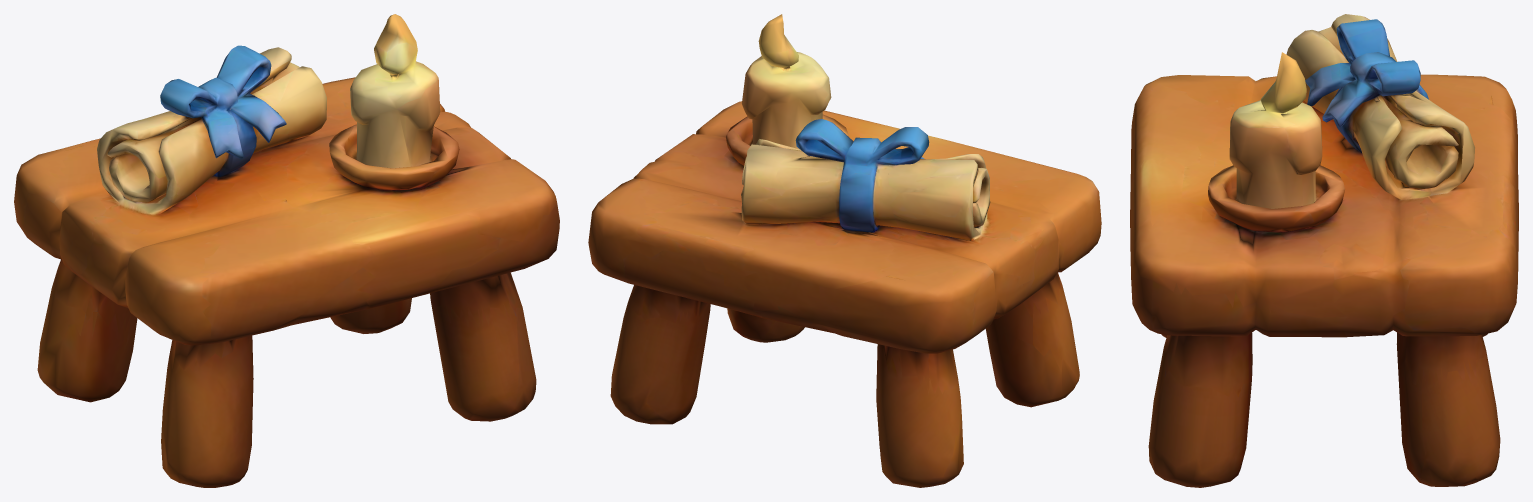
The model's file is map-table.glb.
The picture shows the model from 3 angles, left to right: view 1: azimuth 30°, elevation 25°; view 2: azimuth 150°, elevation 25°; view 3: azimuth 270°, elevation 25°; orthographic projection. The views are drawn at different scales.
Parts seen in each view (by area): view 1: tripo_node_41e9b300-bad6-419e-ae9c-4e3716072612; view 2: tripo_node_41e9b300-bad6-419e-ae9c-4e3716072612; view 3: tripo_node_41e9b300-bad6-419e-ae9c-4e3716072612.
Boxes of the visible parts, x1=… form: tripo_node_41e9b300-bad6-419e-ae9c-4e3716072612: x1=14, y1=14, x2=559, y2=487; tripo_node_41e9b300-bad6-419e-ae9c-4e3716072612: x1=588, y1=14, x2=1101, y2=487; tripo_node_41e9b300-bad6-419e-ae9c-4e3716072612: x1=1130, y1=14, x2=1518, y2=487.
Size of the model in its own units: 1 by 0.9051 by 0.8.
Materials: 1 (1 with a texture image).
